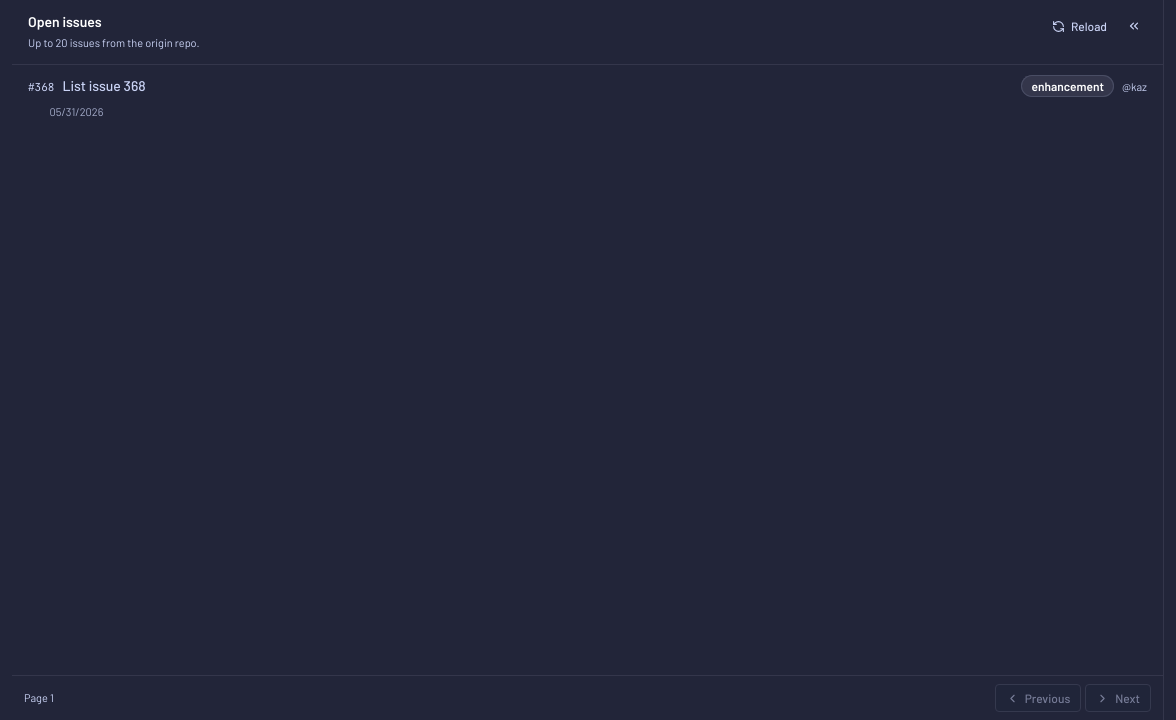
IssueTab › disables single run when pending tasks exist
Check: the text "List issue 368" is shown, box [62,77,146,94]
Click the button named "List issue 368" at (588, 99), box [12,65,1163,133]
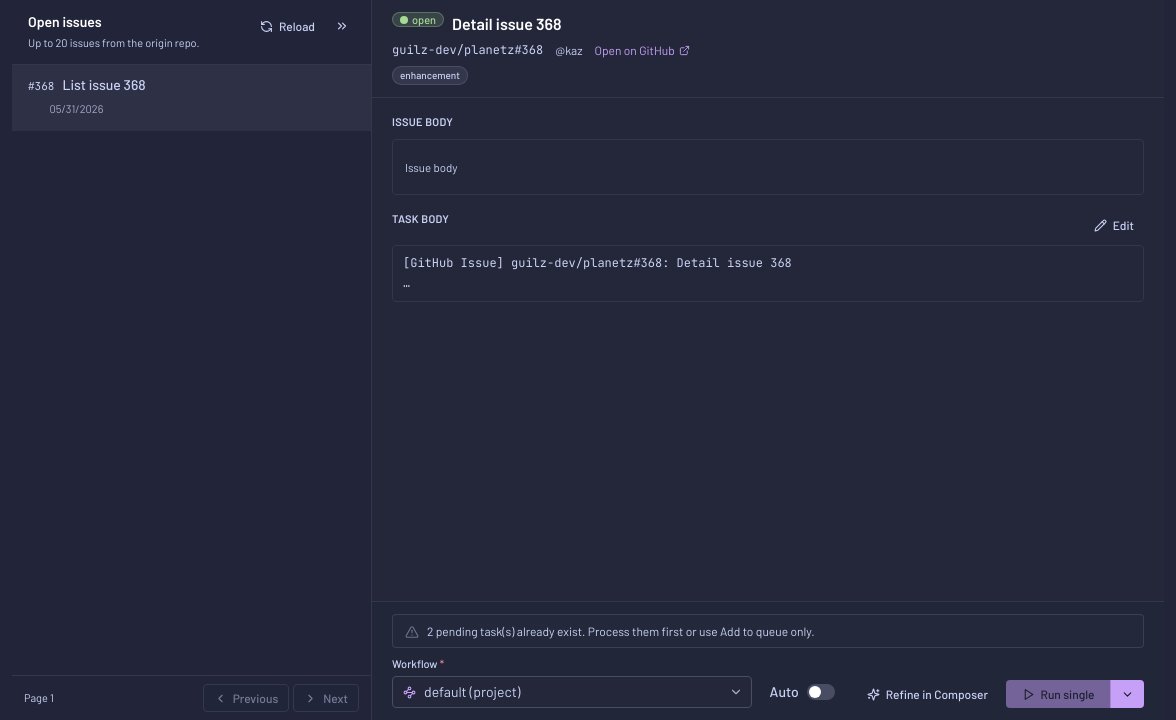
Check: the heading "Detail issue 368" is shown, box [452,14,562,33]
Check: the button "Run single" is disabled, box [1006,680,1110,708]
Check: the text "2 pending task" is shown, box [427,624,814,638]
